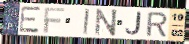E: (19, 6, 42, 34)
F: (43, 7, 66, 34)
I: (83, 8, 91, 36)
J: (124, 11, 142, 37)
N: (94, 8, 118, 37)
R: (145, 12, 169, 38)
